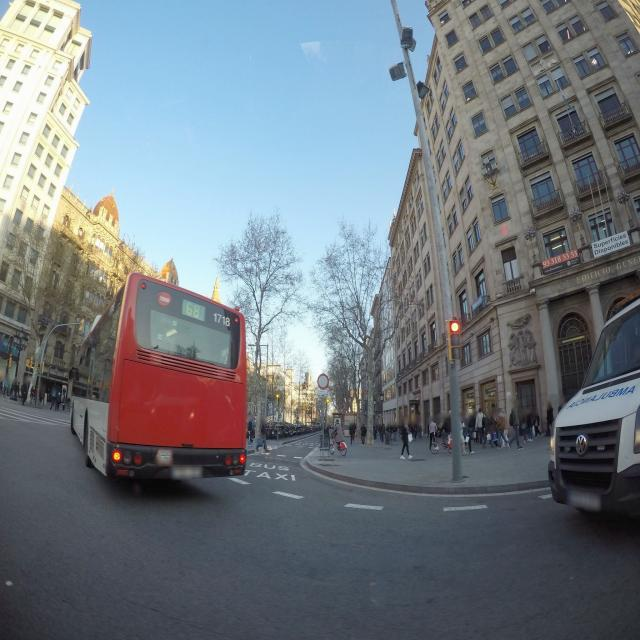bike: (329, 433, 347, 458)
car: (548, 272, 640, 534)
